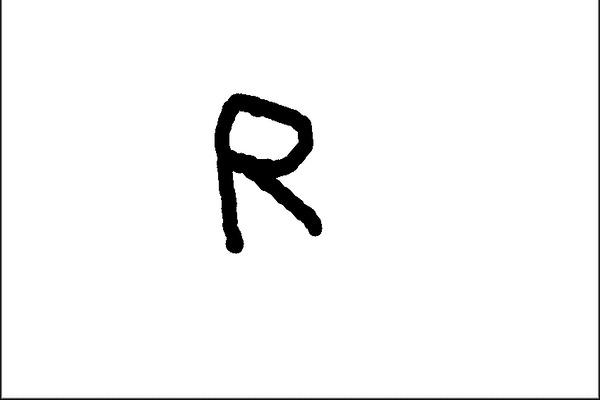R: (207, 84, 333, 258)
